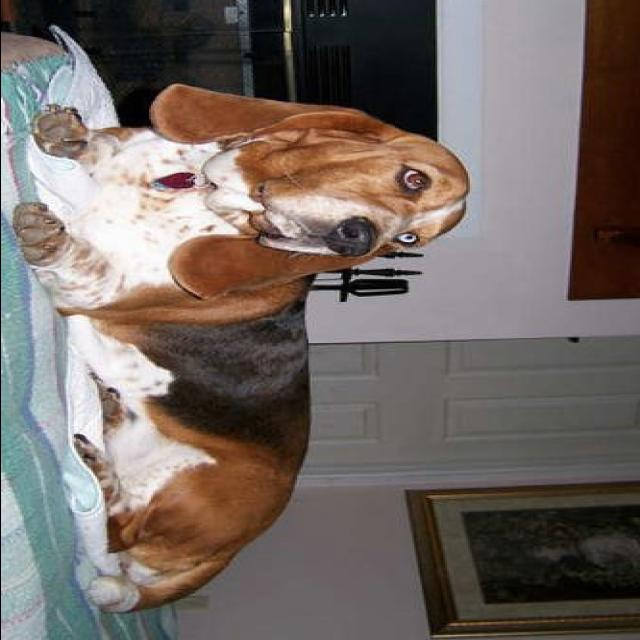basset: (19, 84, 471, 616)
